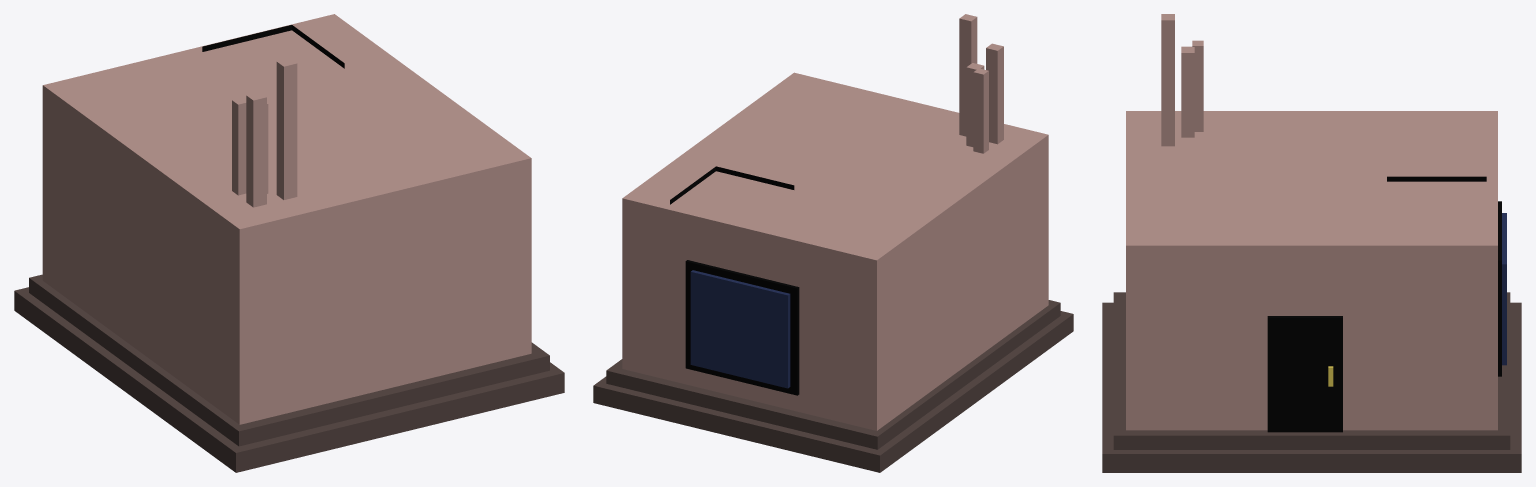
The model's file is house.fbx.
3 renders of one model, left to right at view 1: azimuth 30°, elevation 25°; view 2: azimuth 150°, elevation 25°; view 3: azimuth 270°, elevation 25°, orthographic. The views are drawn at different scales.
Visible parts, largest first — view 1: Cube.011; view 2: Cube.011; view 3: Cube.011.
Boxes of the visible parts, box(x1,y1,x2,y2) form: Cube.011: box(14, 14, 564, 472); Cube.011: box(593, 14, 1073, 472); Cube.011: box(1102, 14, 1521, 472).
Bounding box in the file's own units: 667 × 707 × 780.
